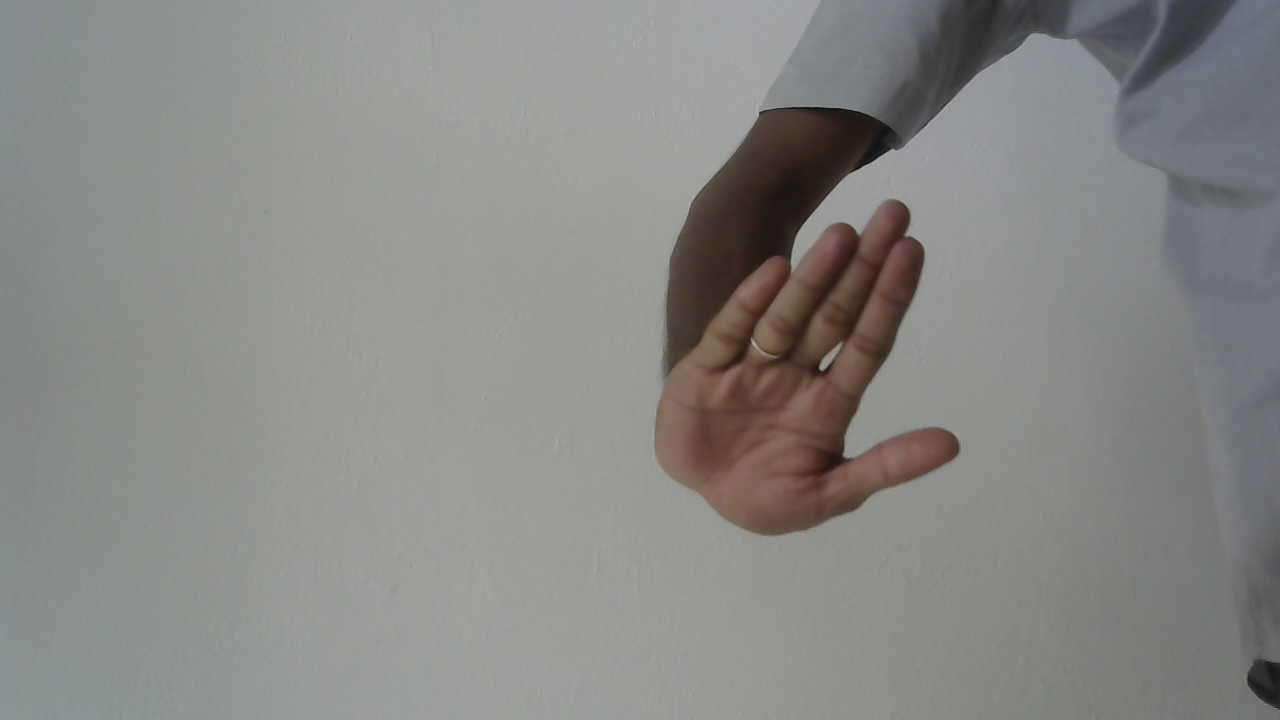hello: (644, 192, 976, 546)
